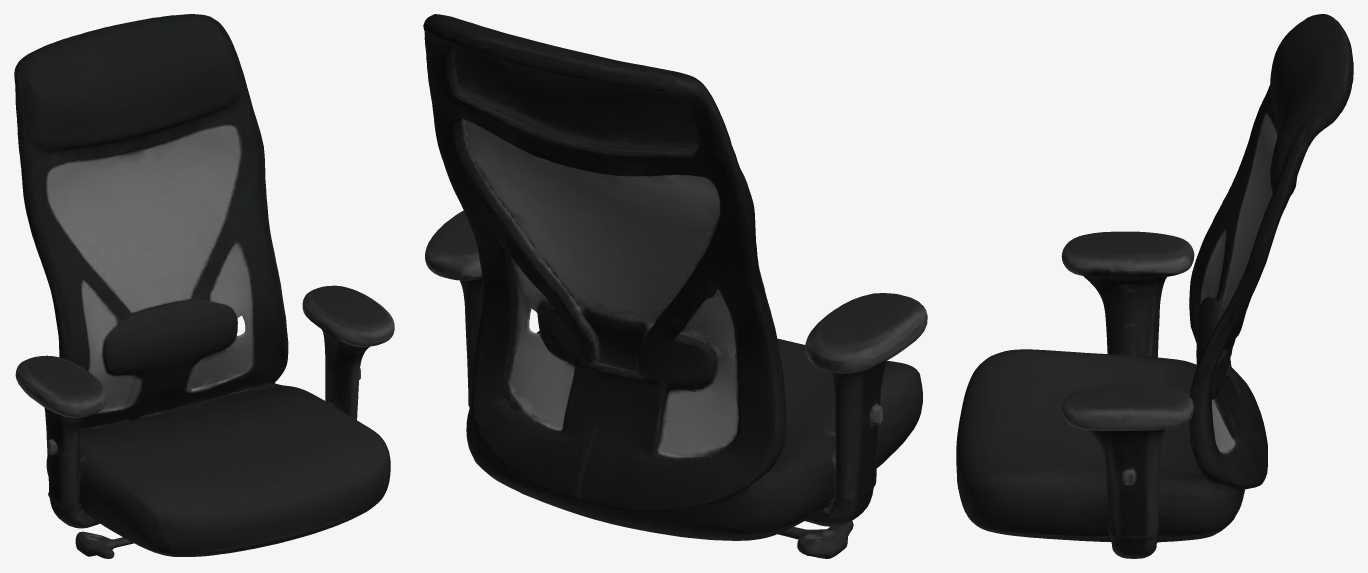
The picture shows the model from 3 angles, left to right: view 1: azimuth 30°, elevation 25°; view 2: azimuth 150°, elevation 25°; view 3: azimuth 270°, elevation 25°; orthographic projection. The views are drawn at different scales.
Visible parts, largest first — view 1: world; view 2: world; view 3: world.
Part boxes in pixels (box(x1,y1,x2,y2)): world: box(14, 14, 394, 558); world: box(423, 14, 927, 558); world: box(956, 14, 1353, 558).
Size of the model in its own units: 0.7148 by 0.8314 by 0.6506.
Materials: 1 (1 with a texture image).
